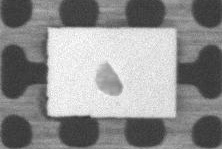DIE_INK: (94, 63, 124, 96)
